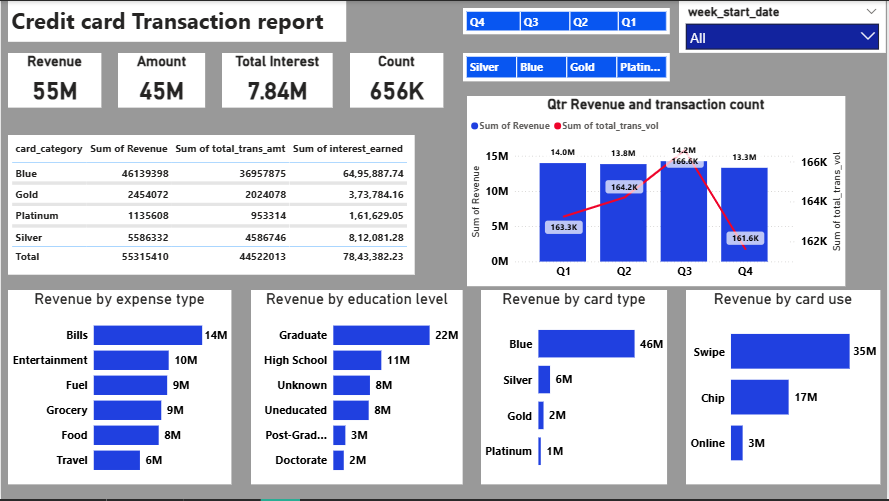

This screenshot's page, from the dashboard's own definition file:
{"tool":"powerbi","page":{"name":"Page 2","canvas":[1280,720],"ordinal":1},"visuals":[{"type":"textbox","box":[10.1,0,488.8,58.8],"z":0},{"type":"lineStackedColumnComboChart","title":"Qtr Revenue and transaction count","fields":{"Category":["public cc_detail.qtr"],"Y":["Sum(public cc_detail.Revenue)"],"Y2":["Sum(public cc_detail.total_trans_vol)"]},"box":[673.7,137.3,546.5,274.7],"z":1000},{"type":"barChart","title":"Revenue by expense type","fields":{"Y":["Sum(public cc_detail.Revenue)"],"Category":["public cc_detail.exp_type"]},"box":[10.1,418.3,322.5,280.5],"z":2000},{"type":"barChart","title":"Revenue by education level","fields":{"Y":["Sum(public cc_detail.Revenue)"],"Category":["public cust_detail.education_level"]},"box":[361.4,418.1,306.1,280.6],"z":3000},{"type":"barChart","title":"Revenue by card type","fields":{"Y":["Sum(public cc_detail.Revenue)"],"Category":["public cc_detail.card_category"]},"box":[693.8,418.3,268.8,280.5],"z":5000},{"type":"barChart","title":"Revenue by card use","fields":{"Y":["Sum(public cc_detail.Revenue)"],"Category":["public cc_detail.use_chip"]},"box":[991.1,418.3,280.5,280.5],"z":6000},{"type":"tableEx","fields":{"Values":["public cc_detail.card_category","Sum(public cc_detail.Revenue)","Sum(public cc_detail.total_trans_amt)","Sum(public cc_detail.interest_earned)"]},"box":[10.1,193.2,587.9,201.6],"z":7000},{"type":"card","title":"Revenue","fields":{"Values":["Sum(public cc_detail.Revenue)"]},"box":[9.9,75.1,134.6,79.4],"z":8000},{"type":"card","title":"Amount","fields":{"Values":["Sum(public cc_detail.total_trans_amt)"]},"box":[169.2,75.1,126.1,79.4],"z":9000},{"type":"card","title":"Total Interest","fields":{"Values":["Sum(public cc_detail.interest_earned)"]},"box":[320,75.1,160.2,79.4],"z":10000},{"type":"card","title":"Count","fields":{"Values":["Sum(public cc_detail.total_trans_vol)"]},"box":[504.8,75.1,134.6,79.4],"z":11000},{"type":"slicer","fields":{"Values":["public cc_detail.week_start_date"]},"box":[980.8,0,299.1,75.1],"z":12000},{"type":"treemap","fields":{"Group":["public cc_detail.qtr"],"Values":["Avg(public cc_detail.client_num)"]},"box":[667.6,9.9,299.1,38.3],"z":13000},{"type":"treemap","fields":{"Values":["Avg(public cc_detail.client_num)"],"Group":["public cc_detail.card_category"]},"box":[667.6,75.1,299.1,41.1],"z":14000}]}

Visuals, with their boxes in screenshot pixels (x1, y1, x2, y2), scaled from the page's 1280x720 canvas onto the 889x501 screenshot:
textbox: <bbox>7, 0, 347, 41</bbox>
"Qtr Revenue and transaction count" lineStackedColumnComboChart: <bbox>468, 96, 847, 287</bbox>
"Revenue by expense type" barChart: <bbox>7, 291, 231, 486</bbox>
"Revenue by education level" barChart: <bbox>251, 291, 464, 486</bbox>
"Revenue by card type" barChart: <bbox>482, 291, 669, 486</bbox>
"Revenue by card use" barChart: <bbox>688, 291, 883, 486</bbox>
tableEx - public cc_detail.card_category x Sum(public cc_detail.Revenue): <bbox>7, 134, 415, 275</bbox>
"Revenue" card: <bbox>7, 52, 100, 108</bbox>
"Amount" card: <bbox>118, 52, 205, 108</bbox>
"Total Interest" card: <bbox>222, 52, 334, 108</bbox>
"Count" card: <bbox>351, 52, 444, 108</bbox>
slicer - public cc_detail.week_start_date: <bbox>681, 0, 888, 52</bbox>
treemap - public cc_detail.qtr x Avg(public cc_detail.client_num): <bbox>464, 7, 671, 34</bbox>
treemap - Avg(public cc_detail.client_num) x public cc_detail.card_category: <bbox>464, 52, 671, 81</bbox>
